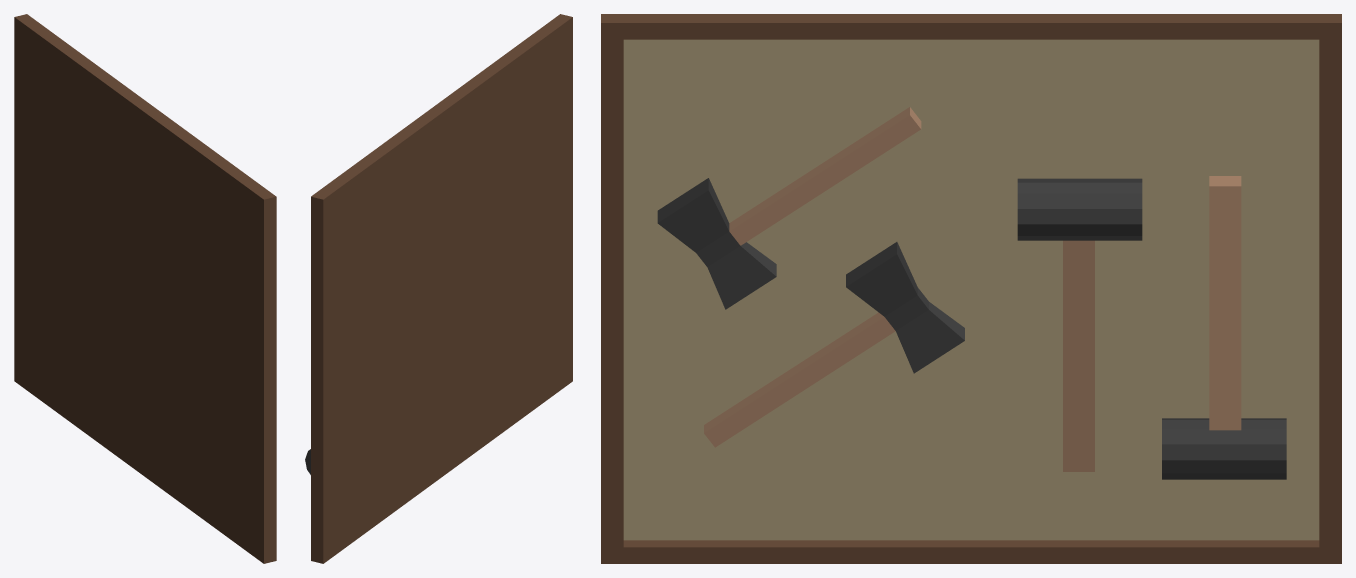
The model's file is Tools_On_Wall.fbx.
The picture shows the model from 3 angles, left to right: view 1: azimuth 30°, elevation 25°; view 2: azimuth 150°, elevation 25°; view 3: azimuth 270°, elevation 25°; orthographic projection. The views are drawn at different scales.
Visible parts, largest first — view 1: Board.001; view 2: Board.001; view 3: Board.001.
Boxes of the visible parts, x1,y1,x2,y2 form: Board.001: (14, 14, 276, 563); Board.001: (305, 14, 572, 563); Board.001: (601, 14, 1341, 563).
Bounding box in the file's own units: 10.21 × 93.86 × 117.
